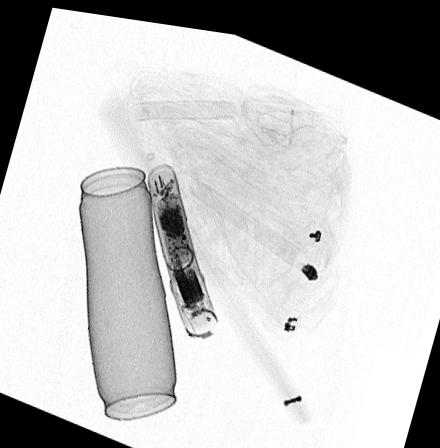Baton: (144, 156, 218, 333)
